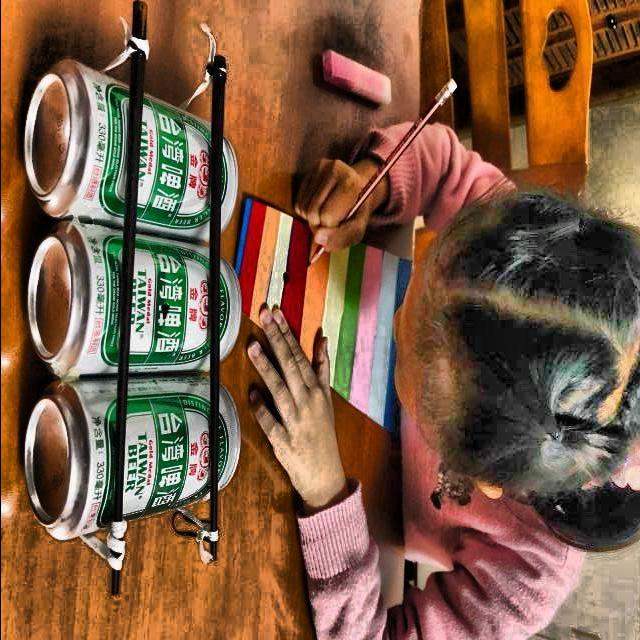litter: (18, 55, 249, 252), (17, 368, 243, 549), (24, 227, 245, 384)
